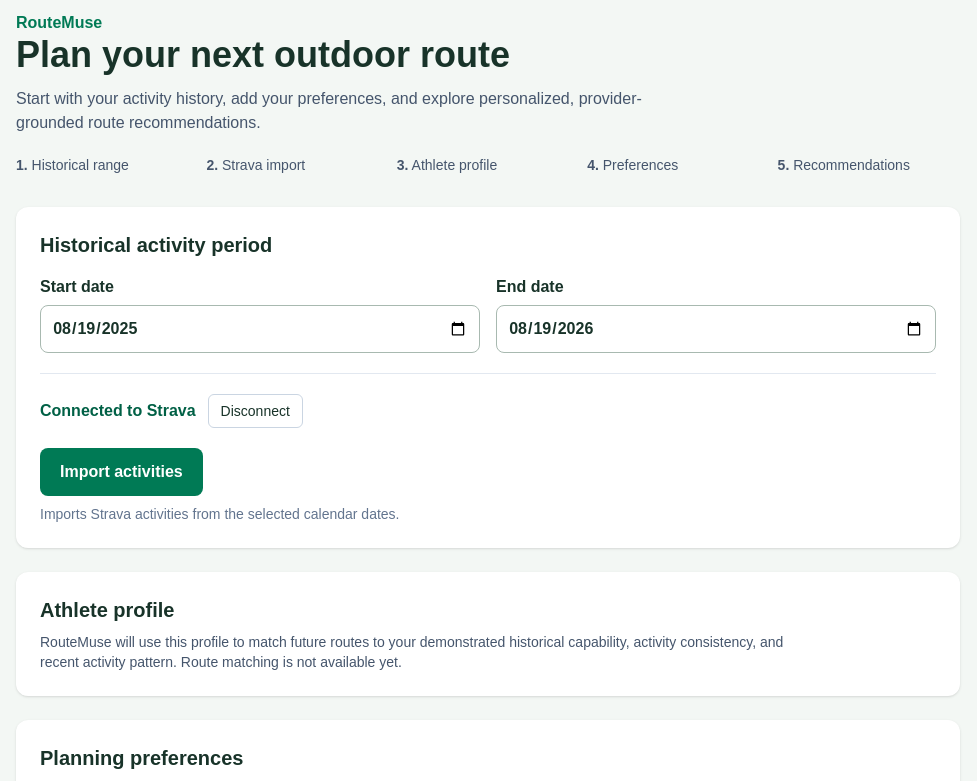
Test: PlannerForm › disconnects, refreshes server status, and clears prior results
Expected: the text "Connected to Strava" is shown, [40,399,196,423]
Click the button "Import activities": {"x": 121, "y": 472} [40,448,203,496]
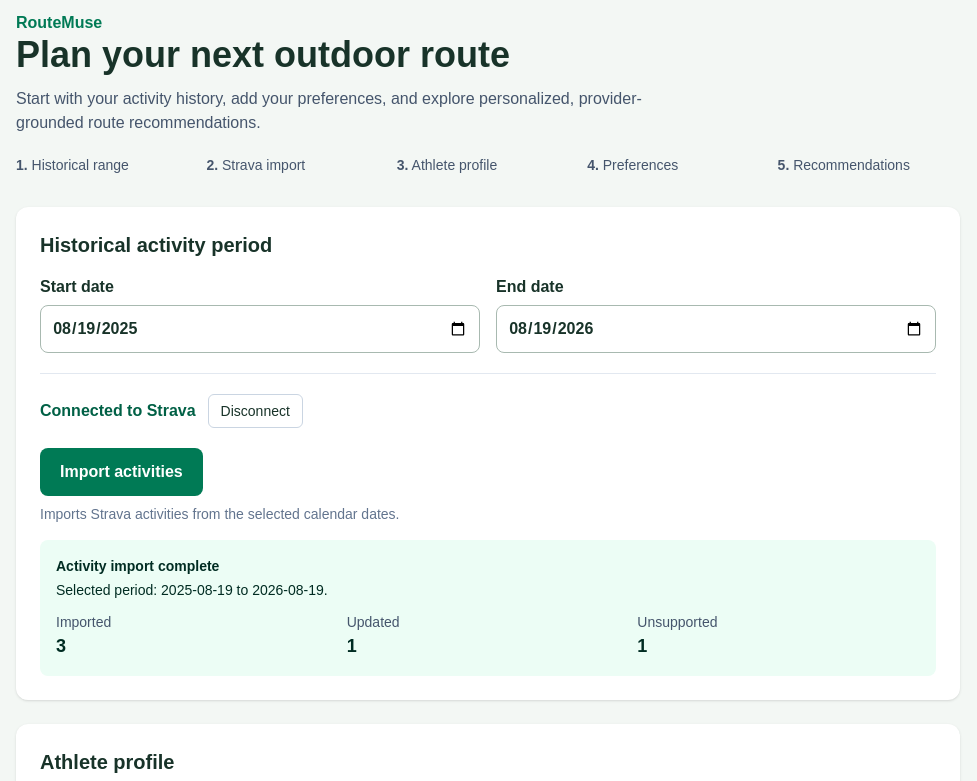
Expected: the text "Activity import complete" is shown, [56,558,219,574]
Click the button "Disconnect": {"x": 255, "y": 411} [208,394,303,428]
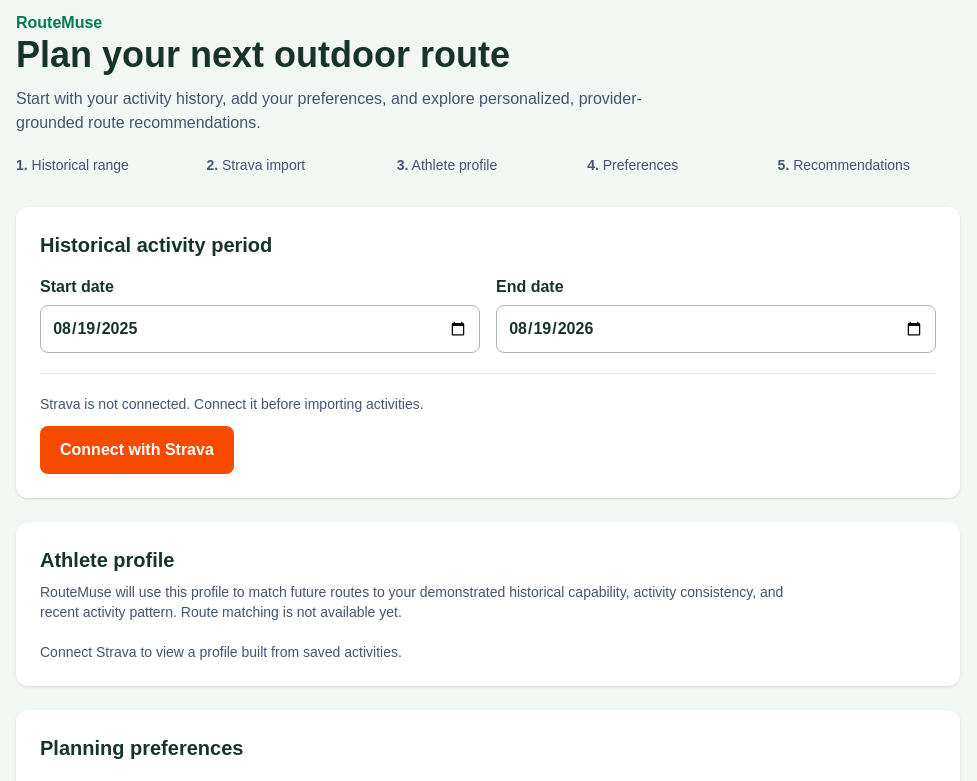
Expected: the text "Strava is not connected. Connect it before importing activities." is shown, [40,396,424,412]
Expected: the text "Activity import complete" is gone
